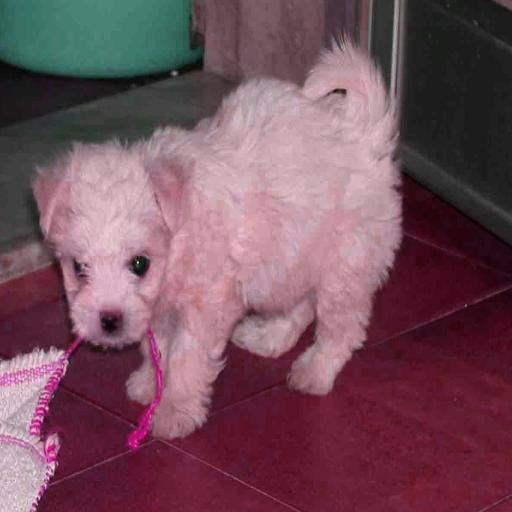dog_face: (34, 154, 179, 352)
